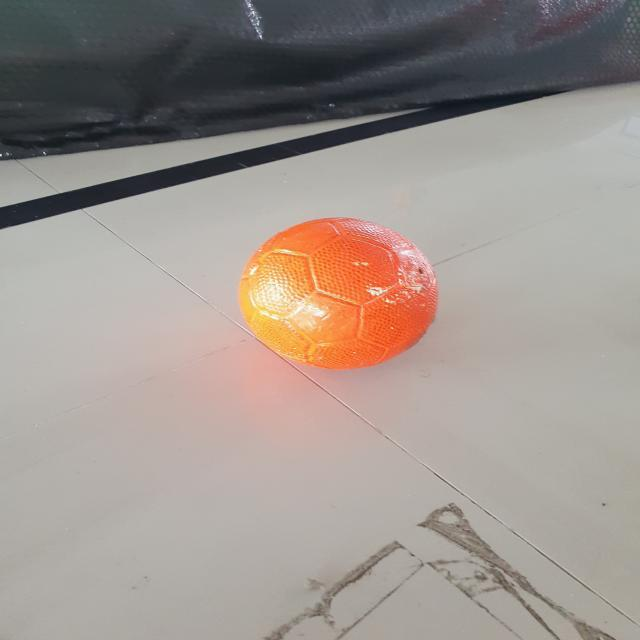bola: (210, 198, 460, 388)
